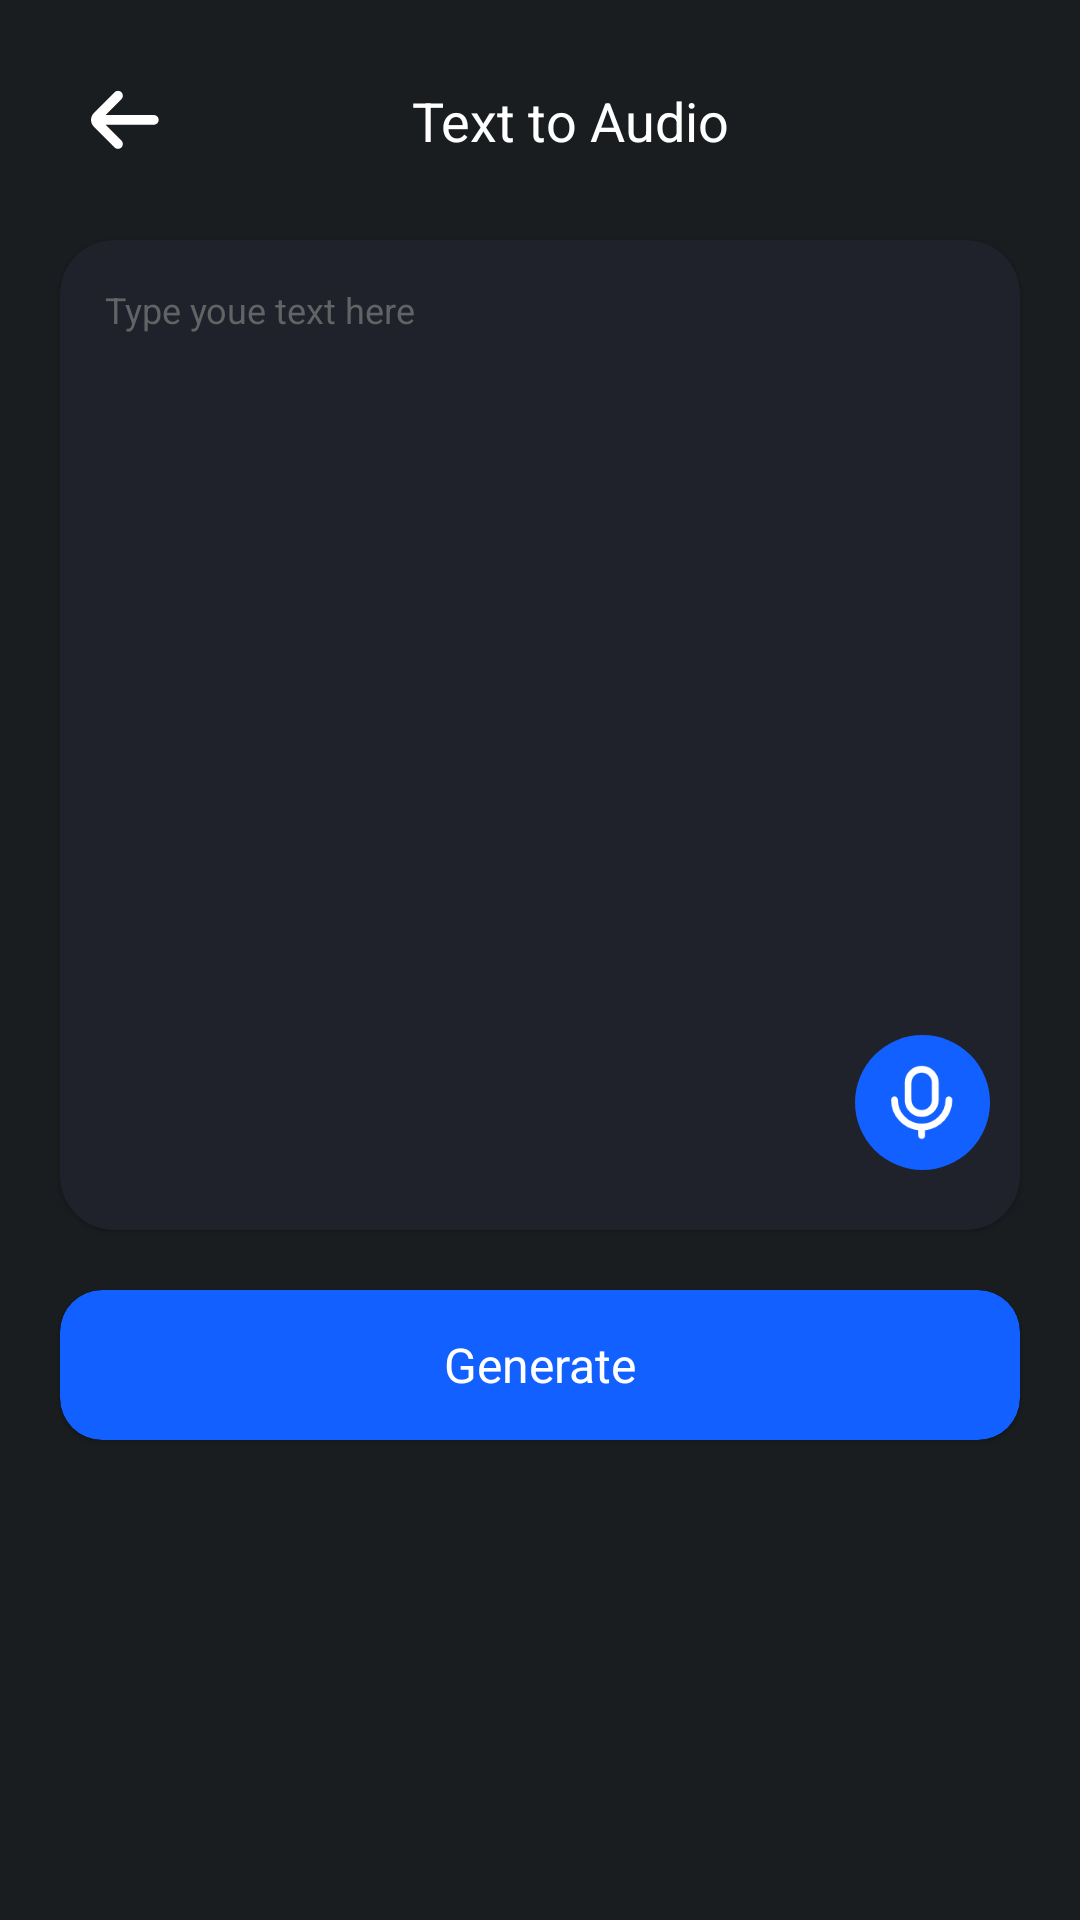

Screen size 1080x1920. Icon name, then its center in pixels as [x,y]:
backicon: [125,120]
mic: [922,1102]
